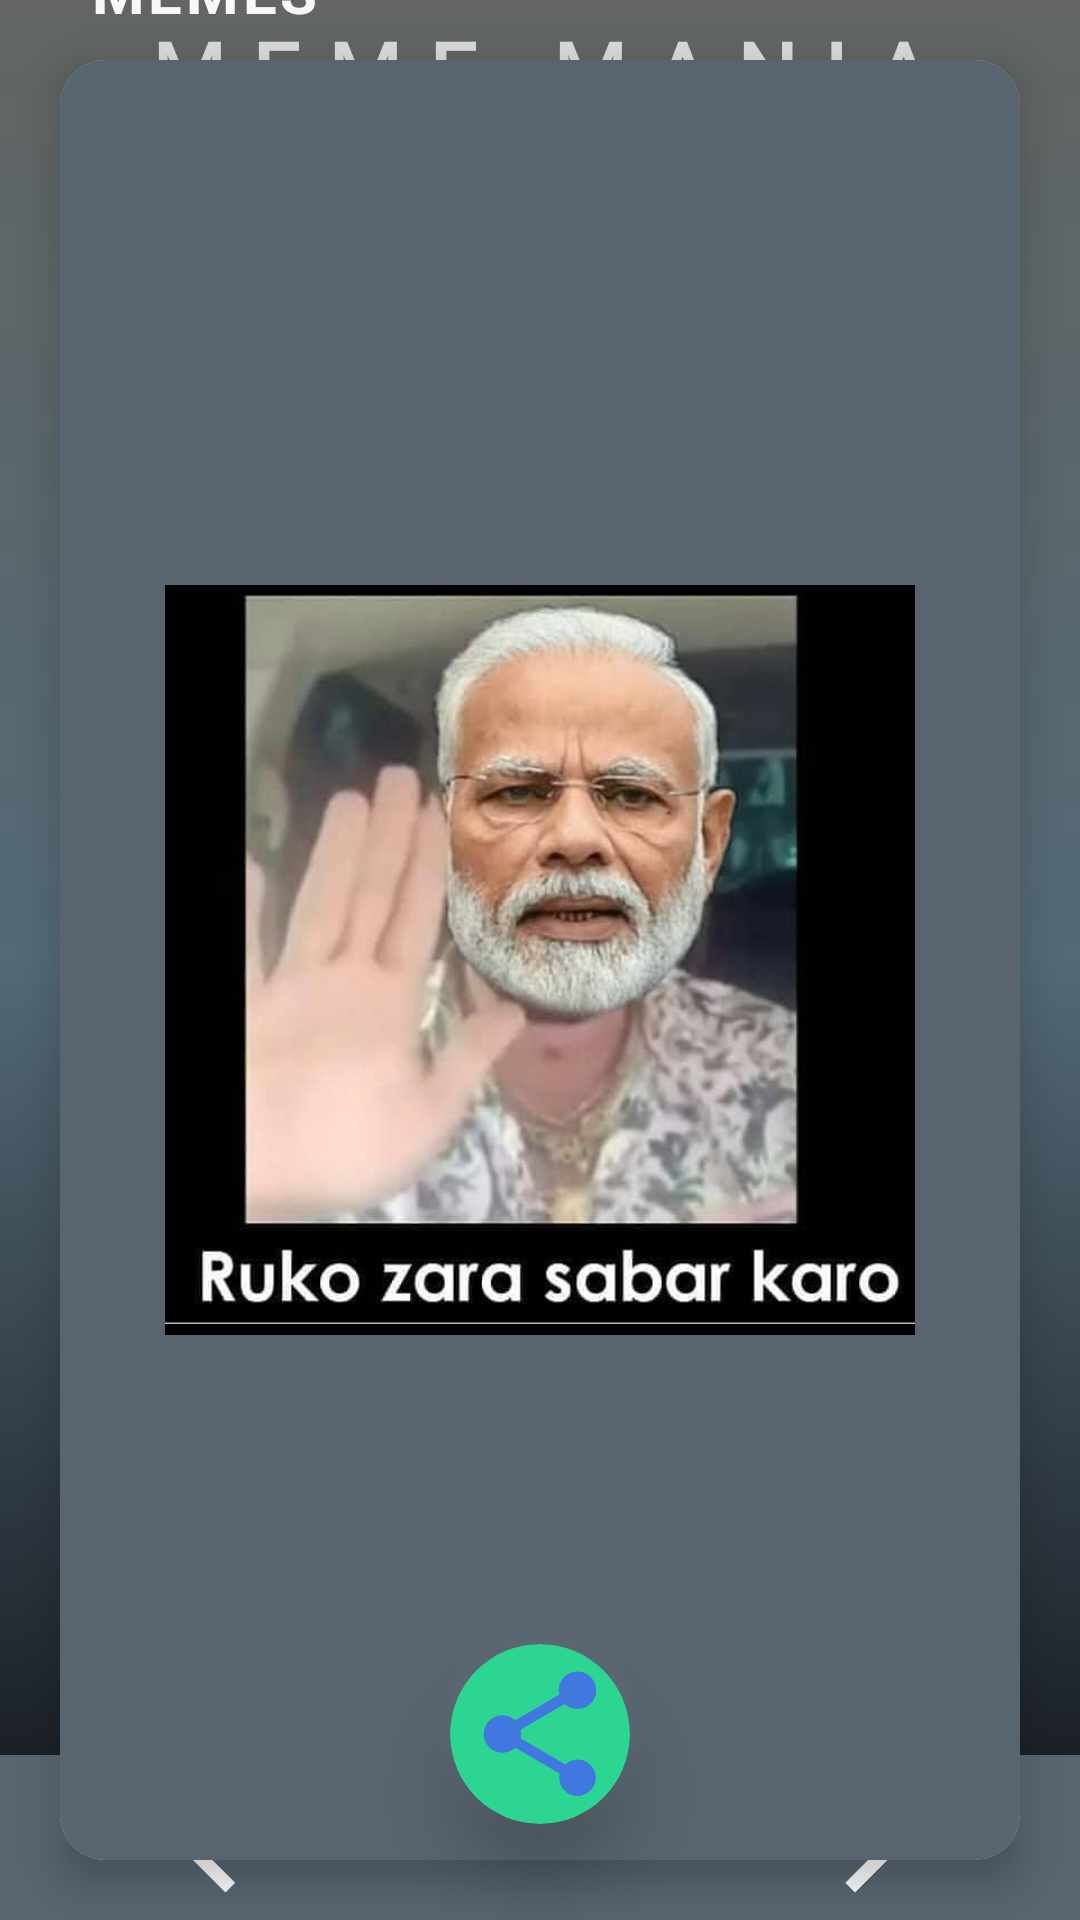

Screen size 1080x1920. Icon name, then its box in pixels as (left=x1, top=y1, right=x2, bottom=y2):
share: (left=450, top=1644, right=630, bottom=1824)
